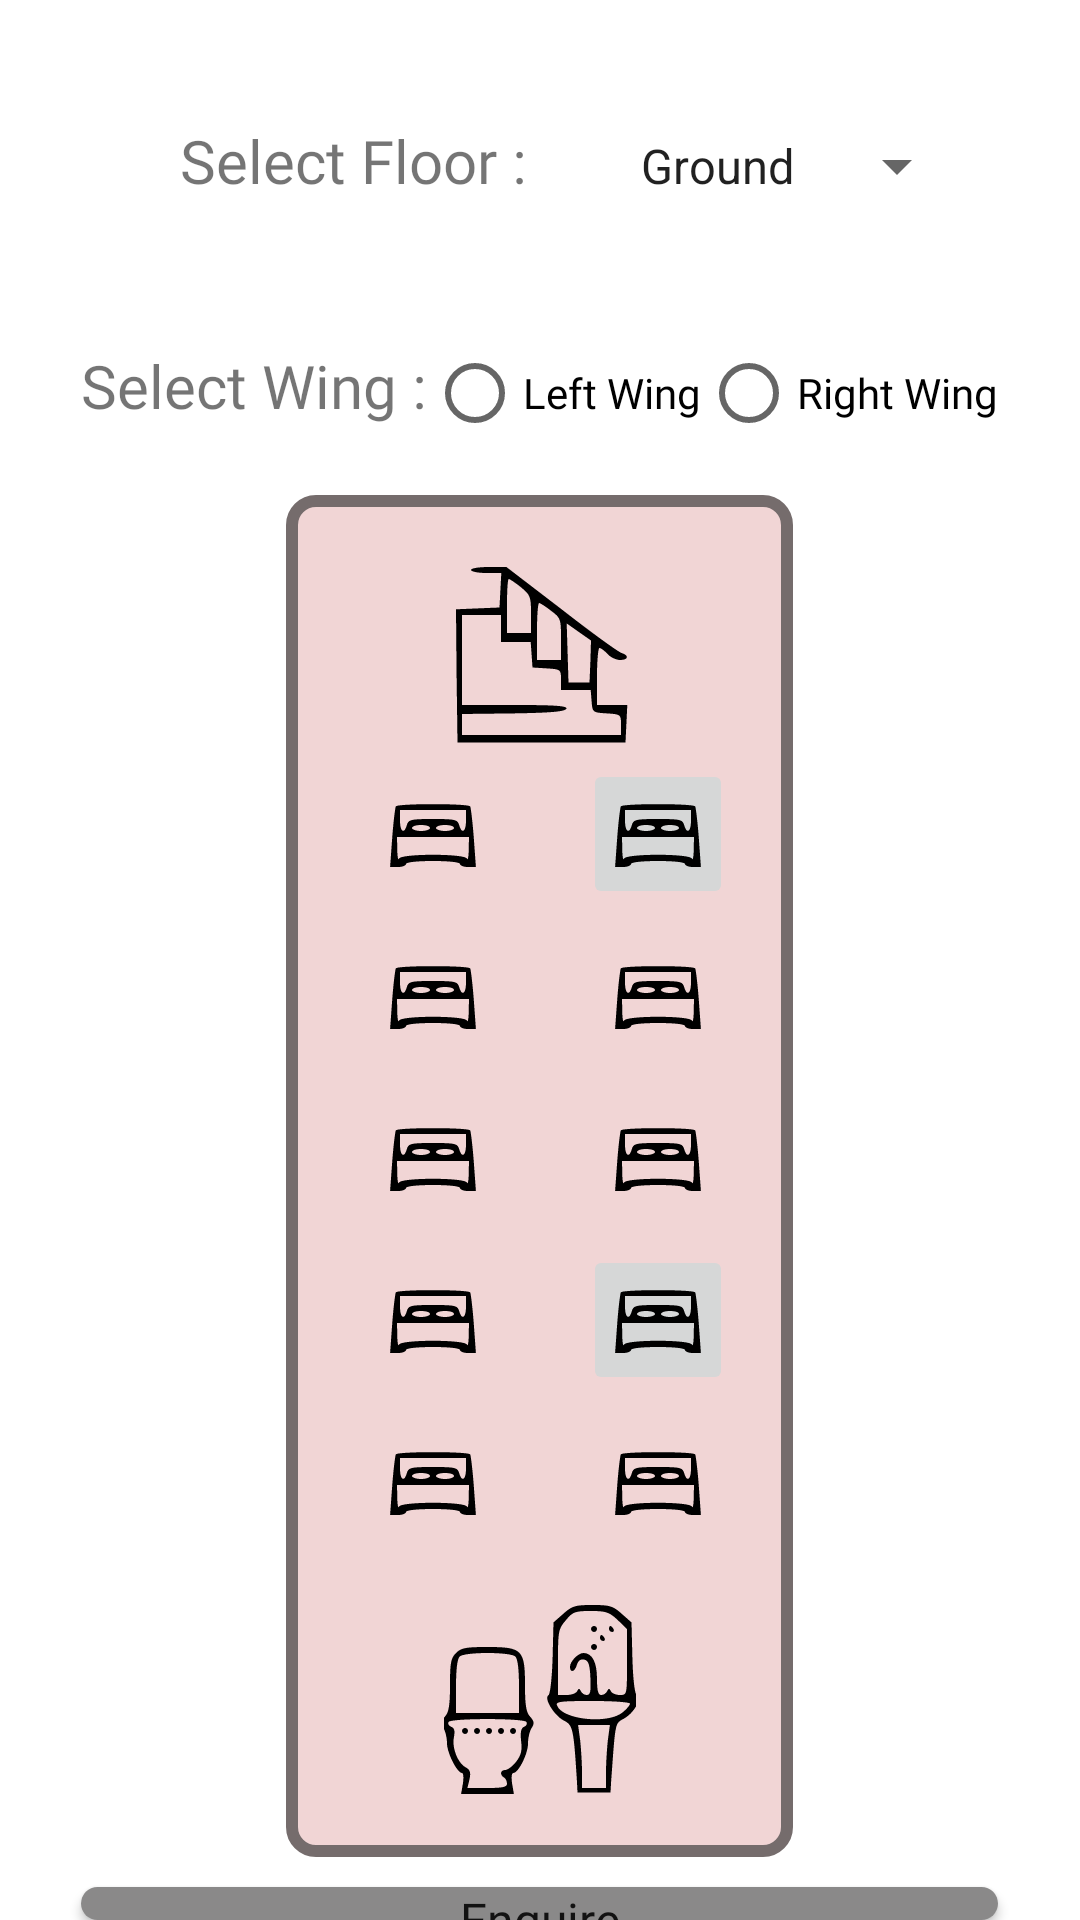

Icons on this 1080x1920 Android screen, each with the point to tap as [x,y]:
stair: [542,655]
washroom: [540,1699]
